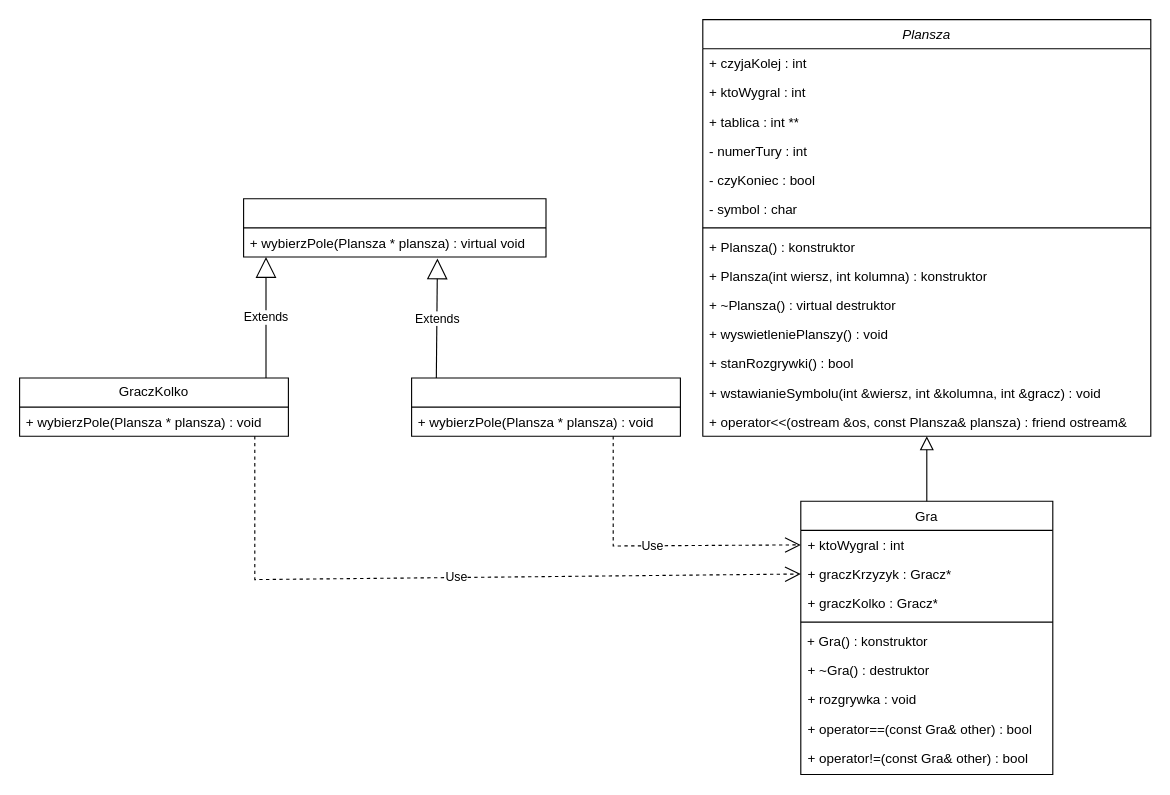
Some shapes in this 1170 by 795 pixel diagram are drawn without their labels. Here are the shapes that lost their labels. From the top down, the box of each, then its label:
(242, 198, 546, 257): Abstract : Gracz
(410, 377, 680, 436): GraczKrzyzyk
